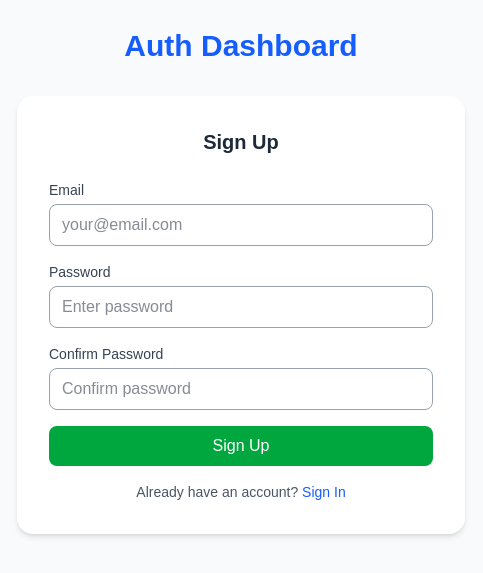
Signup Flow › should show error if passwords do not match
This screenshot has width=483, height=573.
Type "wronguser@example.com" into the field with placeholder "your@email.com".
click(241, 225); type("wronguser@example.com")  # box top-left (49, 204), bottom-right (433, 246)
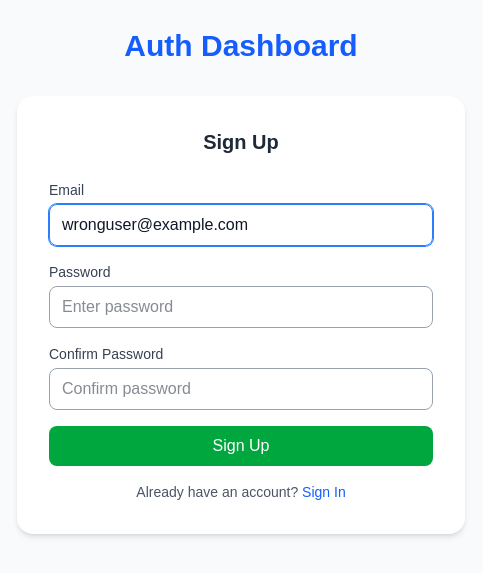
Type "password123" into the password field with placeholder "Enter password".
click(241, 307); type("password123")  # box top-left (49, 286), bottom-right (433, 328)
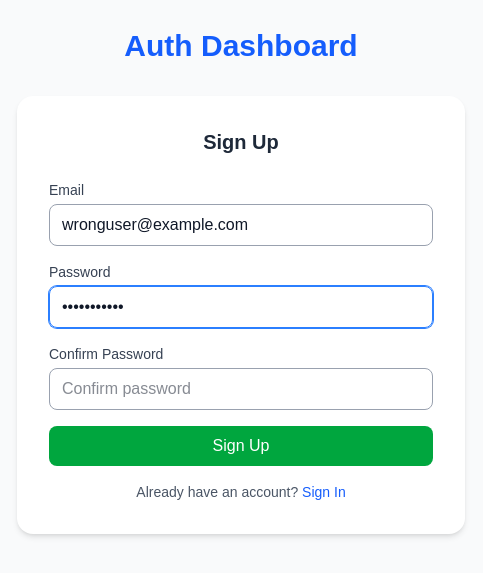
Type "password456" into the password field with placeholder "Confirm password".
click(241, 389); type("password456")  # box top-left (49, 368), bottom-right (433, 410)
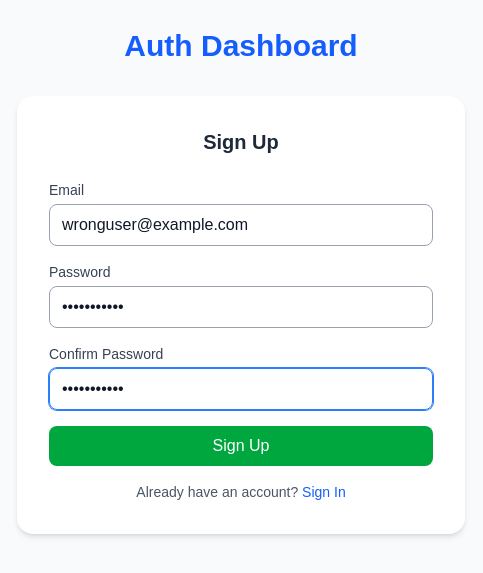
Click the submit button.
click(241, 446)  # box top-left (49, 426), bottom-right (433, 466)
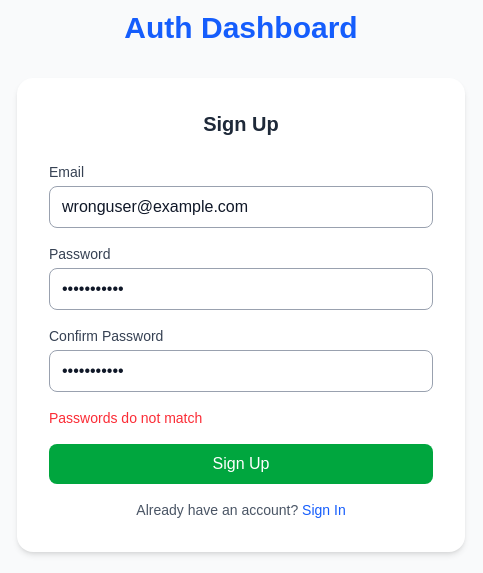
Check: the text "Passwords do not match" is shown, box top-left (49, 410), bottom-right (202, 426)
